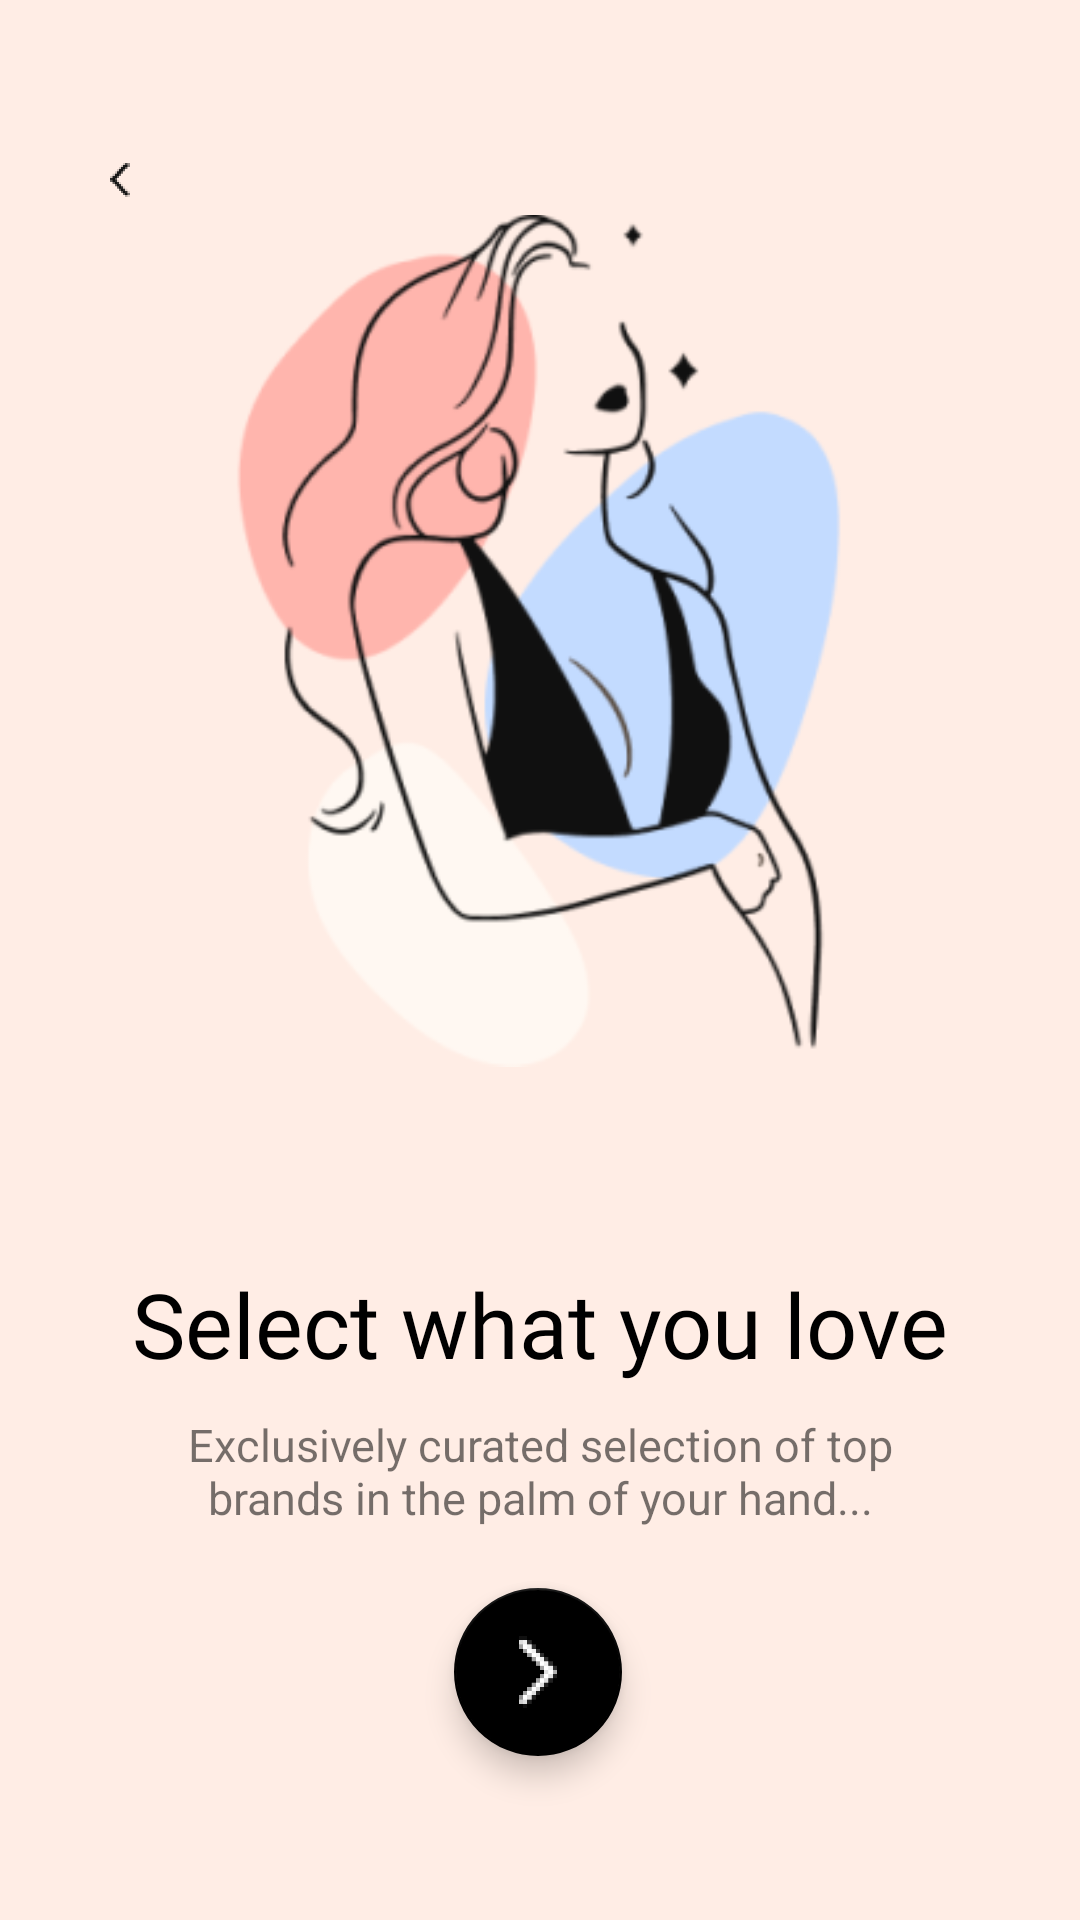

Where to tap for icons on this 1080w x 1920h app screen, as point (x, y):
back: point (120, 180)
